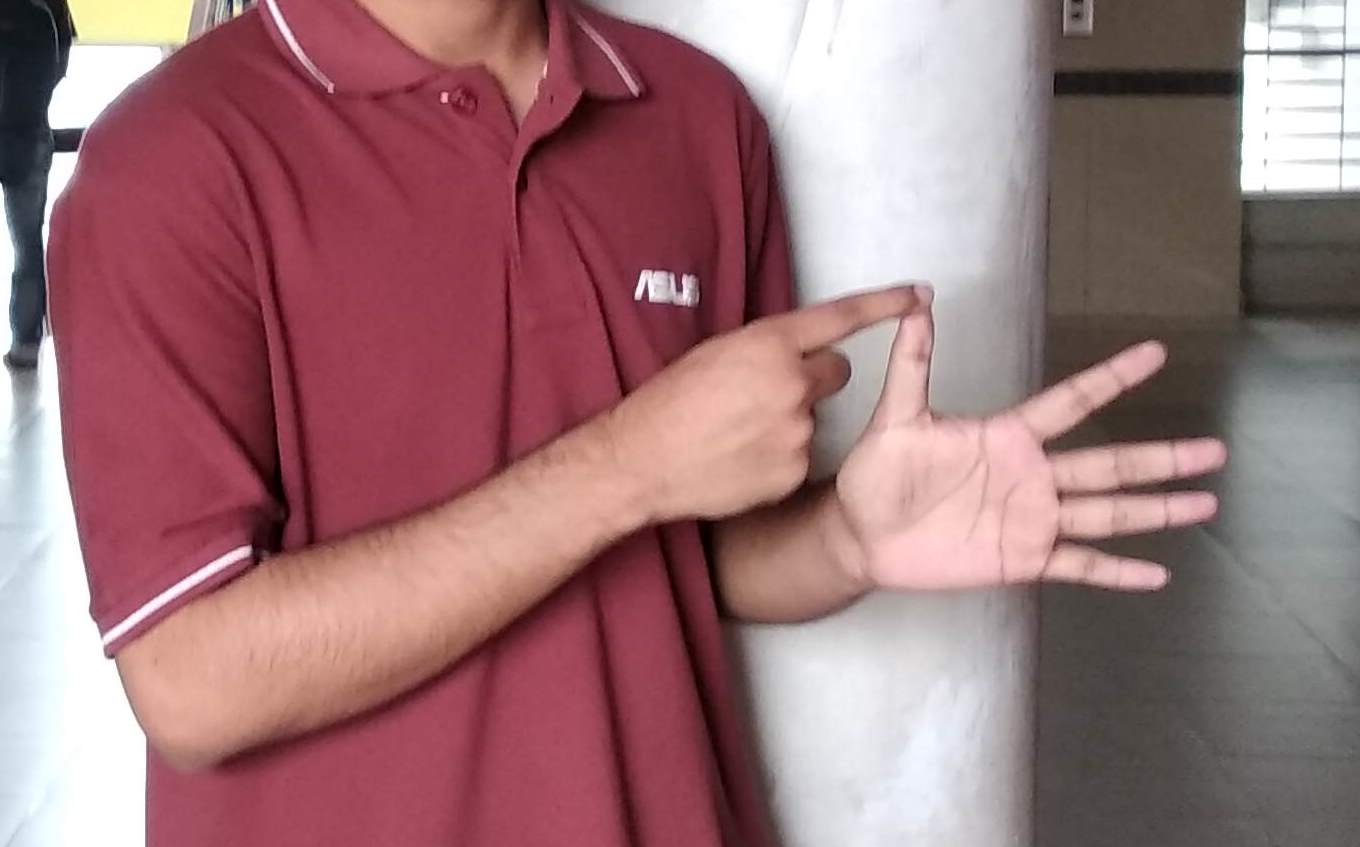a: (717, 275, 1198, 595)
